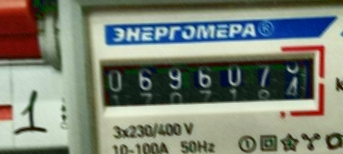0: (105, 67, 123, 92), (225, 61, 241, 86)
4: (283, 74, 299, 98)
6: (135, 66, 153, 91), (195, 63, 213, 87)
7: (255, 62, 271, 88)
9: (165, 65, 182, 89)
screen: (85, 38, 330, 120)
